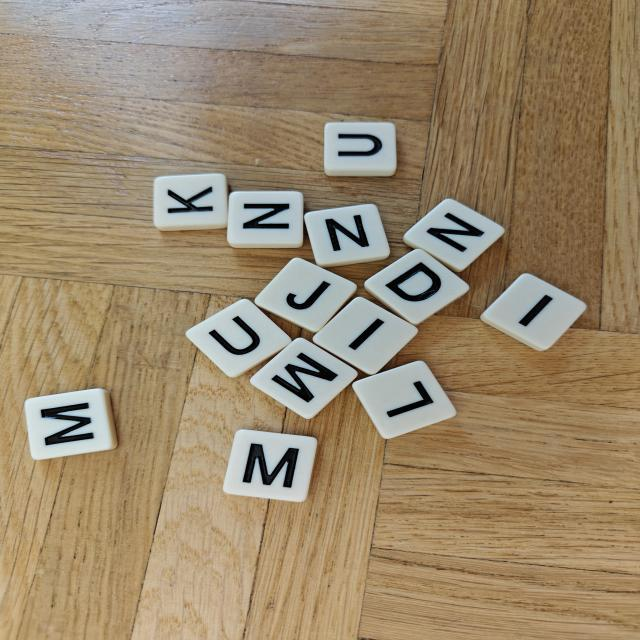d: (364, 249, 469, 325)
i: (480, 274, 586, 351), (313, 297, 417, 375)
j: (255, 258, 356, 332)
k: (154, 173, 228, 231)
l: (352, 361, 456, 439)
m: (250, 338, 357, 419), (223, 430, 317, 502), (25, 388, 117, 460)
n: (403, 199, 504, 272), (304, 204, 390, 267), (227, 191, 303, 248)
u: (186, 299, 291, 377), (324, 122, 396, 176)
